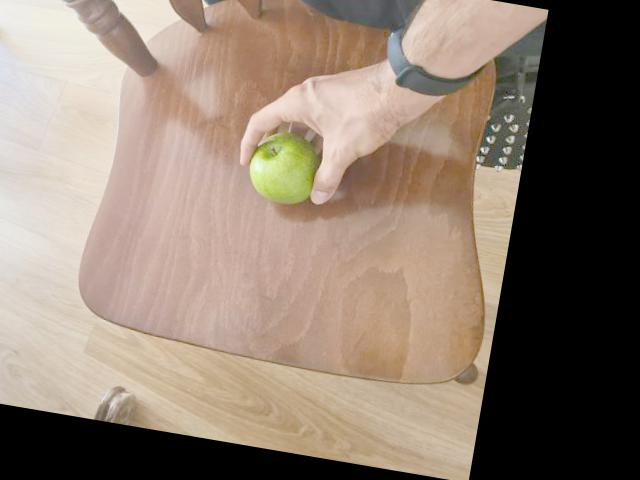apple: (237, 131, 326, 209)
